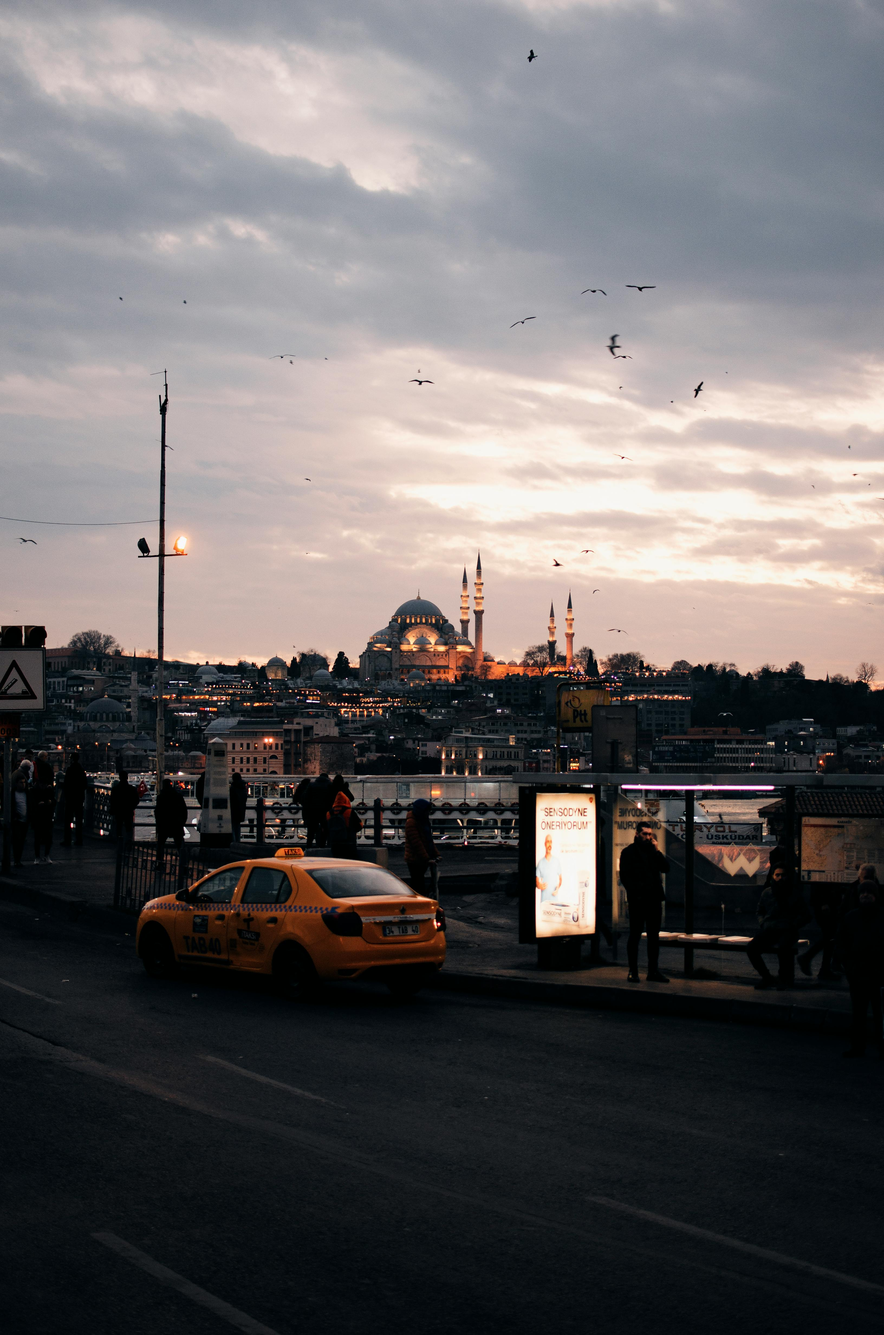other: (136, 848, 449, 998)
